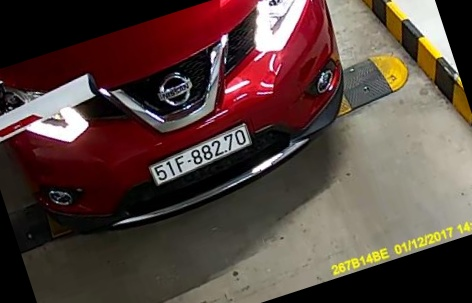plate: (145, 124, 264, 191)
